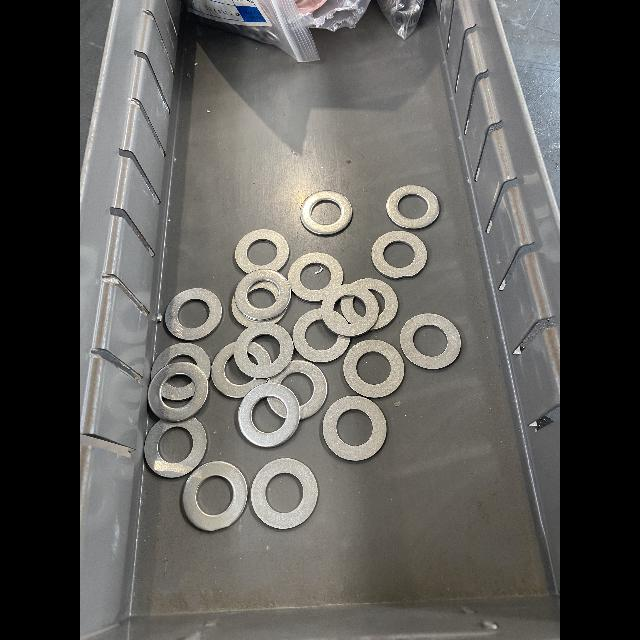Stainless Steel: (251, 458, 318, 529), (183, 461, 248, 531), (323, 396, 387, 461), (238, 382, 300, 447), (238, 383, 300, 447), (145, 418, 207, 478), (148, 362, 209, 422), (343, 340, 404, 398), (269, 360, 327, 419), (400, 313, 461, 369), (234, 322, 293, 379), (211, 342, 266, 398), (293, 309, 350, 362), (321, 284, 378, 337), (165, 288, 222, 340), (235, 269, 290, 321), (288, 252, 343, 302), (371, 230, 427, 279), (351, 278, 398, 331), (235, 229, 289, 274), (387, 185, 440, 229), (300, 191, 352, 235), (151, 343, 211, 381), (231, 294, 288, 327), (158, 425, 193, 463), (161, 381, 195, 401), (341, 296, 363, 324), (248, 281, 278, 300), (267, 397, 286, 419), (334, 310, 348, 323)
